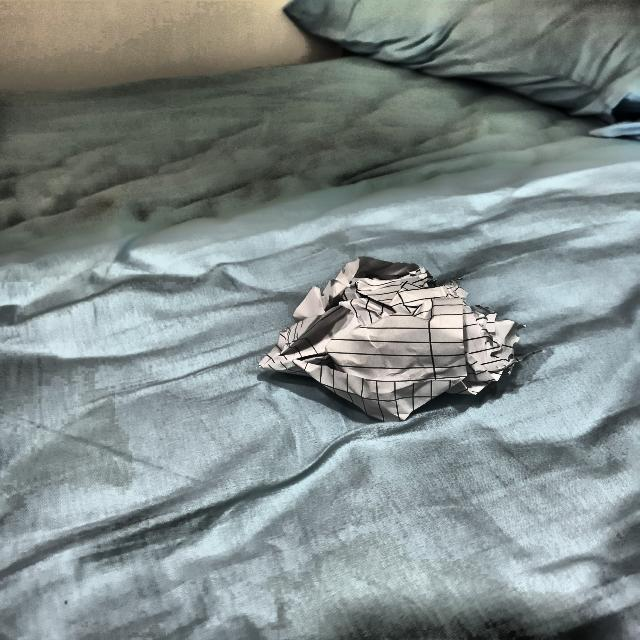Paper: (266, 262, 512, 418)
